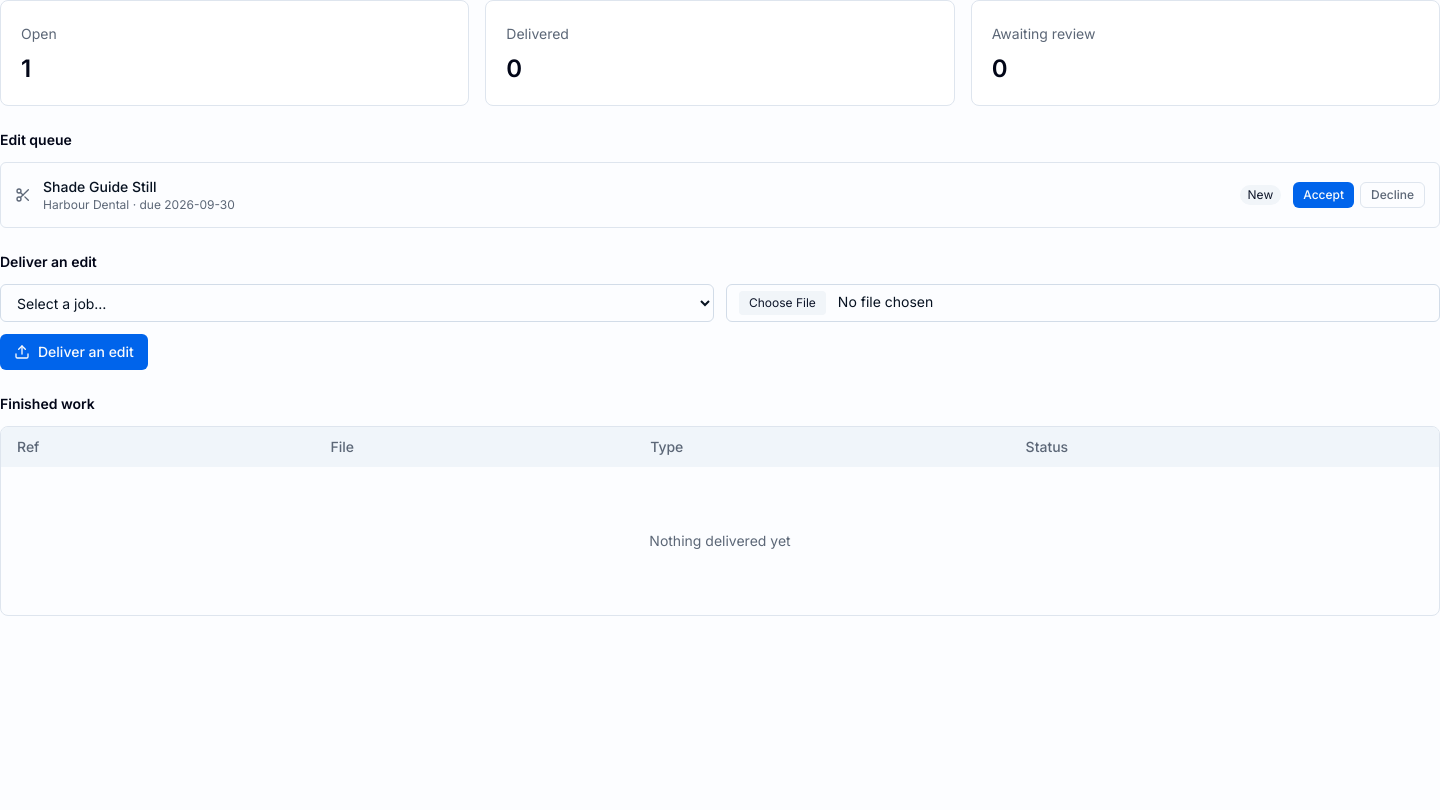
the states an assignment can be in › will not send a decline with no reason
What coordinates should you click on to do the following:
click the button "Decline"
I would click on:
 (1392, 195)
Its box is [1360,182,1425,208].
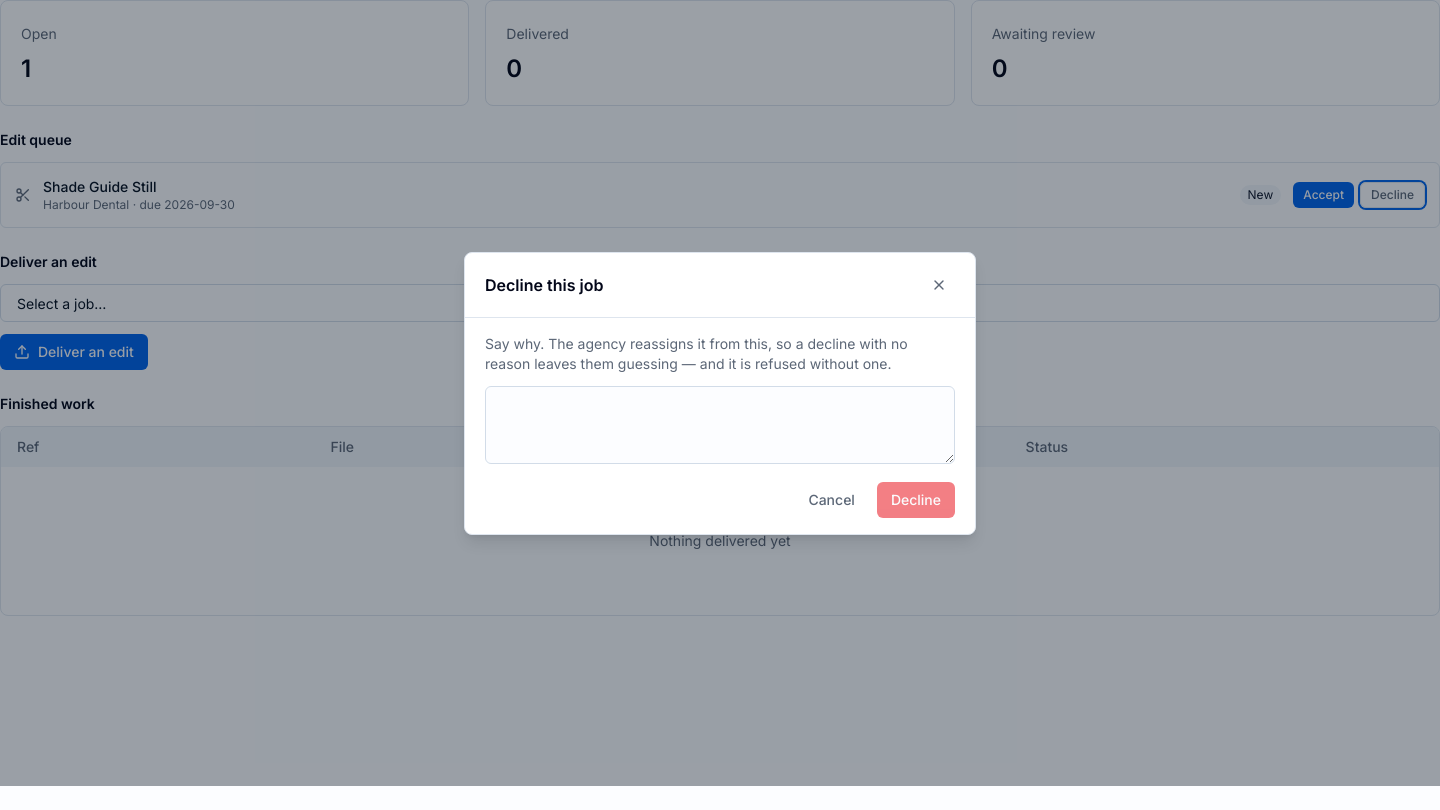
Now the button "Decline" is disabled, box [877,482,955,518]
